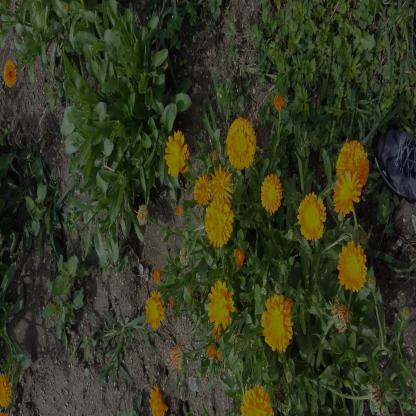marigold: (224, 117, 256, 173), (262, 295, 293, 352), (337, 142, 368, 192), (338, 242, 367, 292), (332, 170, 361, 216), (206, 200, 233, 246), (298, 193, 325, 238), (165, 133, 190, 176), (209, 284, 232, 328), (241, 386, 274, 416), (260, 174, 284, 213), (147, 292, 164, 329), (194, 173, 212, 204), (150, 386, 168, 416), (3, 62, 18, 88), (0, 376, 11, 406)
